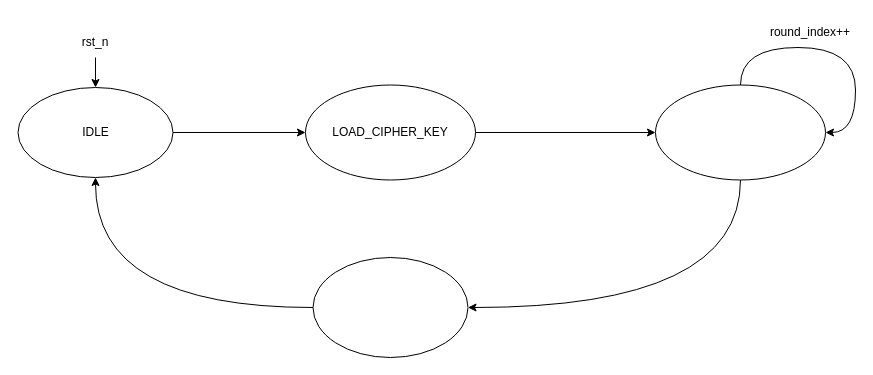
Some shapes in this 873 by 375 pixel diagram are drawn without their labels. Here are the shapes that lost their labels. From the top down, the centre of each, then its label:
the point at 740,132: KEY_EXPAND
the point at 390,307: FINISH
